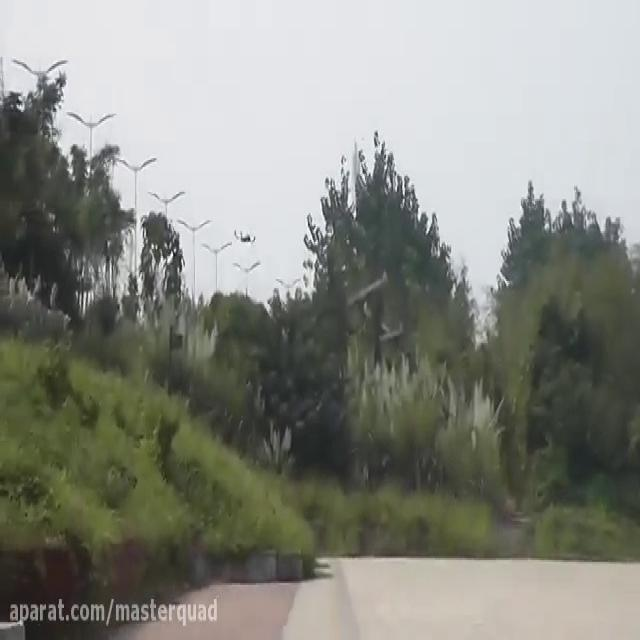drone: (232, 221, 258, 247)
